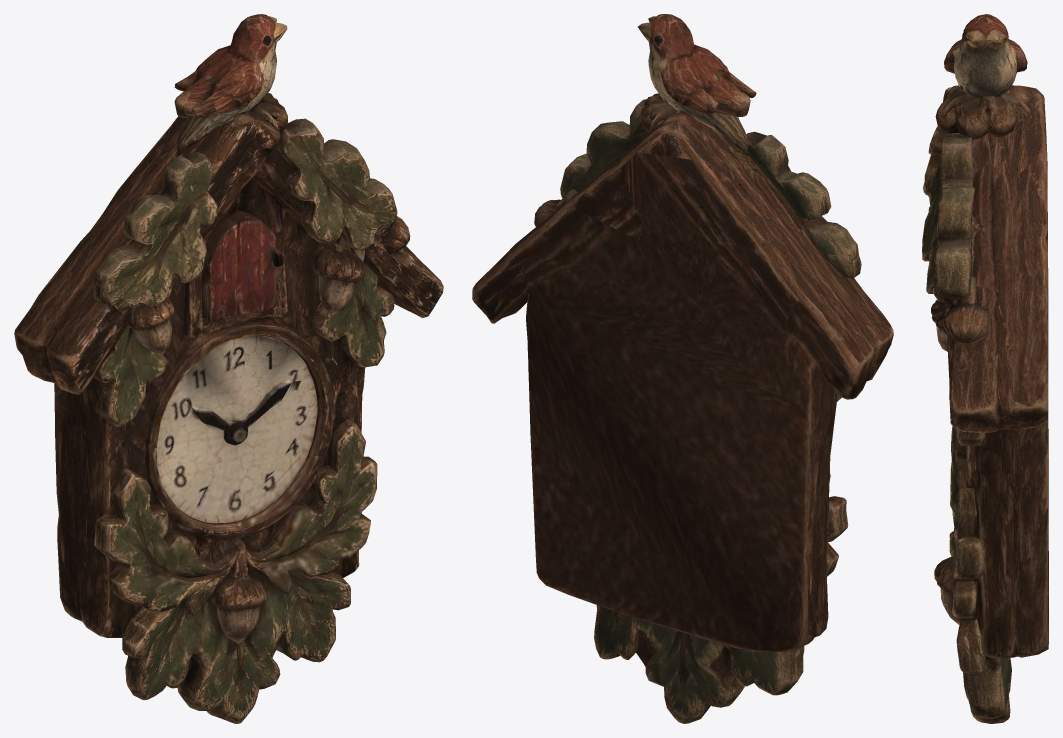
Rendered from cuckoo.glb.
The picture shows the model from 3 angles, left to right: view 1: azimuth 30°, elevation 25°; view 2: azimuth 150°, elevation 25°; view 3: azimuth 270°, elevation 25°; orthographic projection. The views are drawn at different scales.
Parts seen in each view (by area): view 1: cuckoo; view 2: cuckoo; view 3: cuckoo.
Boxes of the visible parts, box(x1,y1,x2,y2) form: cuckoo: box(14, 14, 443, 723); cuckoo: box(472, 14, 893, 723); cuckoo: box(922, 14, 1048, 723).
Bounding box in the file's own units: 0.3625 × 0.62 × 0.0991.
Materials: 1 (1 with a texture image).
